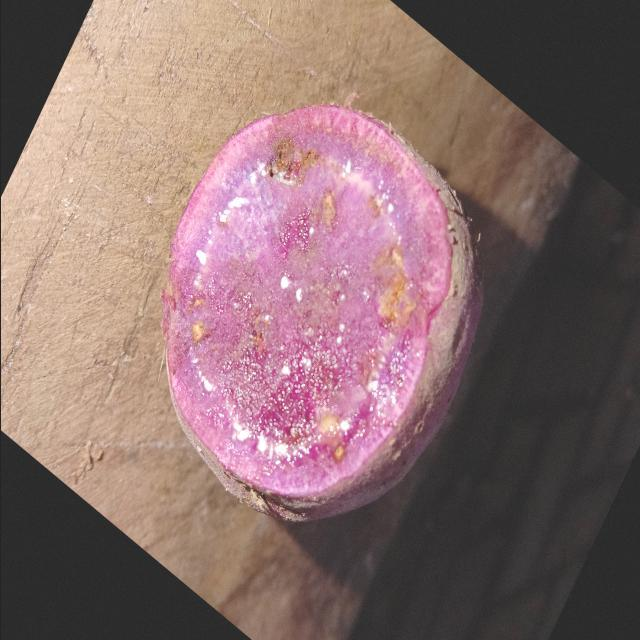Sick Sweet Potato_Tuber Rot: (161, 105, 450, 497)
